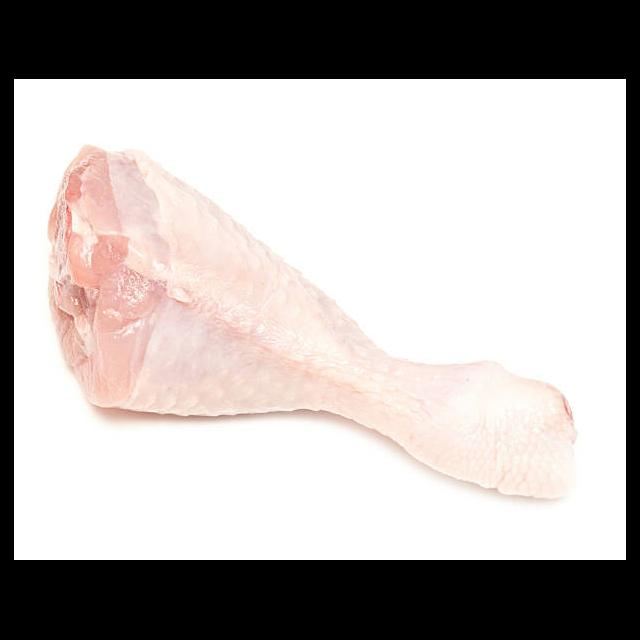chicken: (45, 143, 580, 502)
